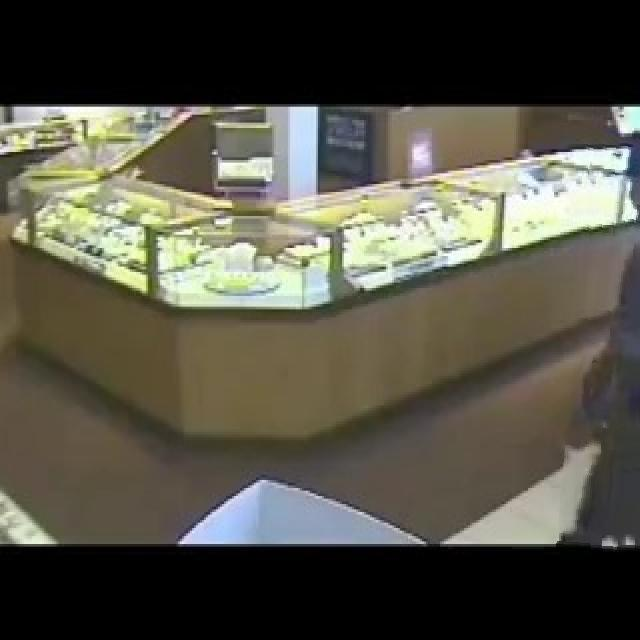normal: (565, 134, 640, 552)
